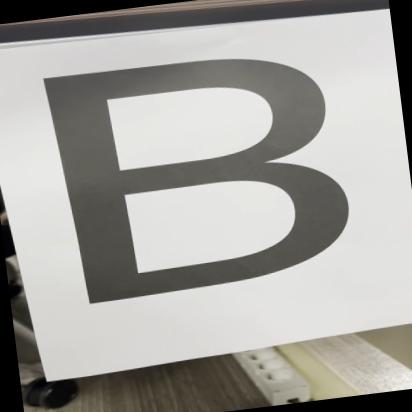seat: (29, 29, 364, 314)
